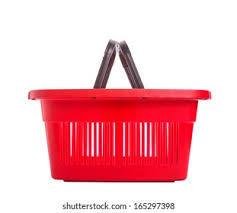with_basket: (27, 38, 211, 183)
